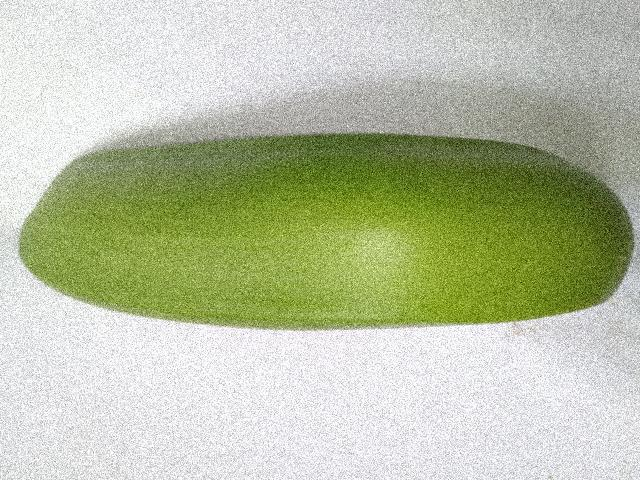freshunripe: (12, 118, 633, 351)
